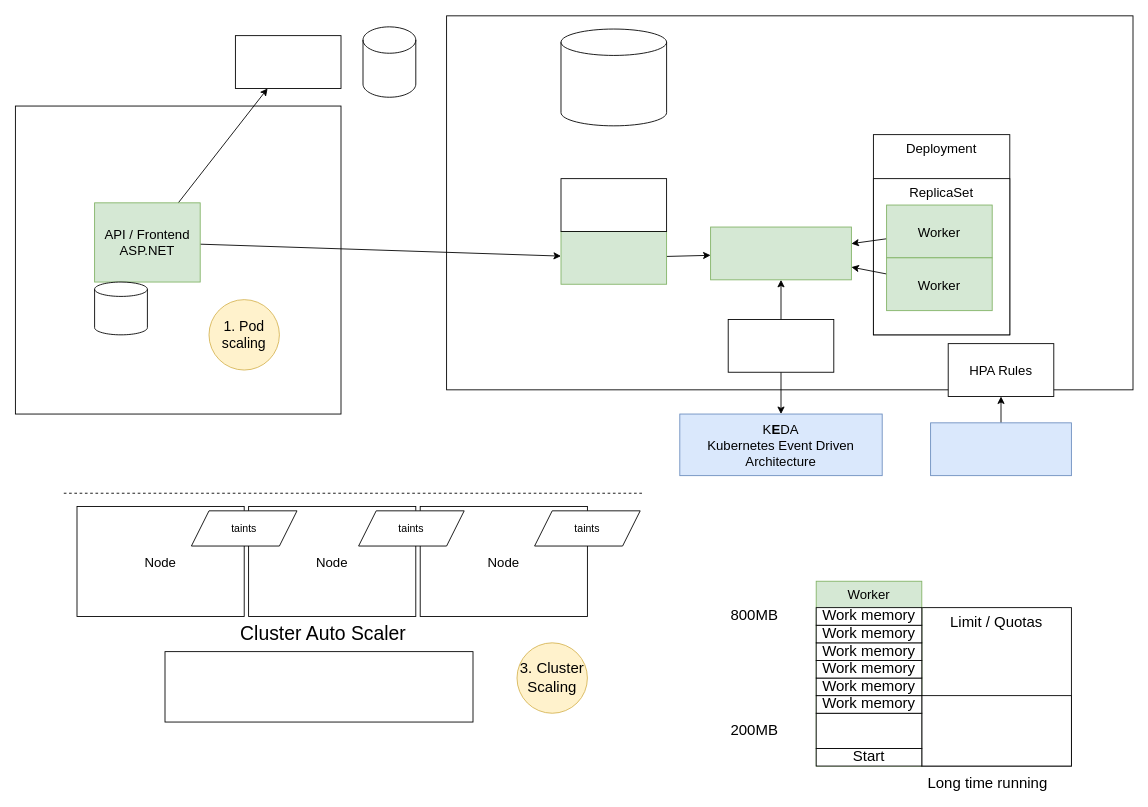
Some shapes in this 1148 by 807 pixel diagram are drawn without their labels. The shapes that lost their labels are listed below. From the top down, each one's centre as x and y in pixels, then its label:
(x=288, y=61): Storage Account
(x=613, y=77): Config for all Clients
(x=613, y=204): Supports many clients
(x=613, y=257): Job Service API ASP.NET
(x=780, y=253): Queue Redis / RabbitMQ
(x=120, y=308): temp
(x=780, y=345): Keda Rule
(x=1000, y=449): Horizontal Pod Autoscaler
(x=318, y=686): Auto Scaler Rule - checks periodally - min CPU/Memory - add/remove node
(x=868, y=730): Image Library
(x=996, y=730): Request / Minimum
